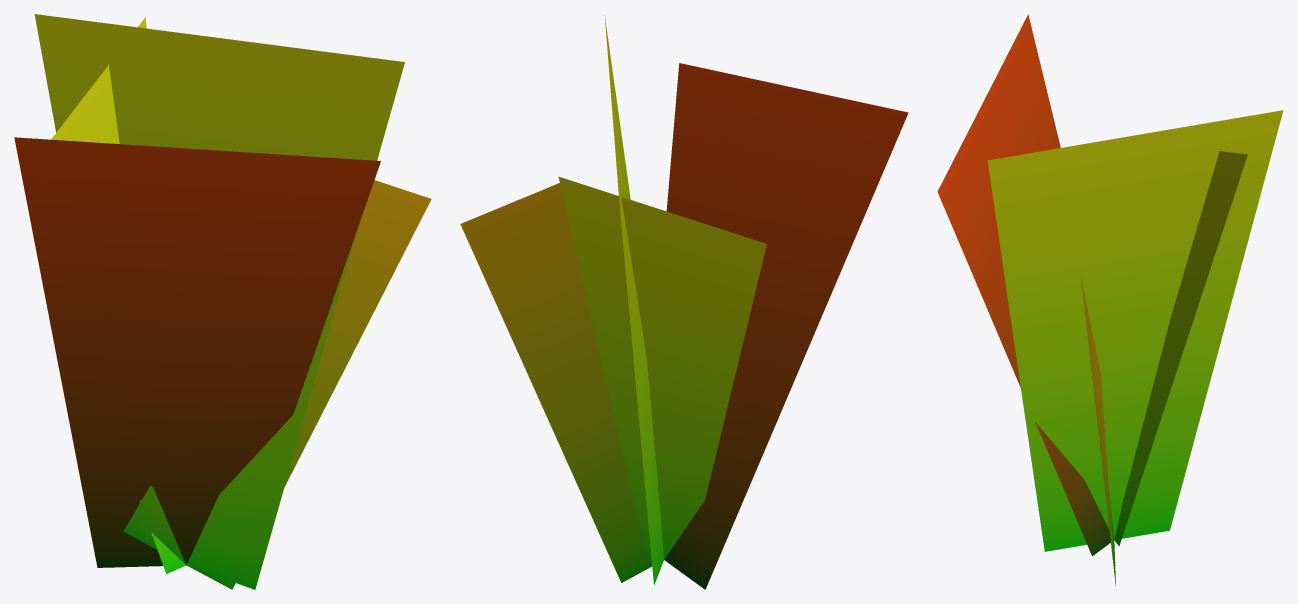
The model's file is Ocean Seaweed_LOD2_Var4_sdDgS.fbx.
3 renders of one model, left to right at view 1: azimuth 30°, elevation 25°; view 2: azimuth 150°, elevation 25°; view 3: azimuth 270°, elevation 25°, orthographic. The views are drawn at different scales.
Visible parts, largest first — view 1: _zpxb_Var4_LOD2; view 2: _zpxb_Var4_LOD2; view 3: _zpxb_Var4_LOD2.
Boxes of the visible parts, x1=… form: _zpxb_Var4_LOD2: x1=14, y1=14, x2=431, y2=589; _zpxb_Var4_LOD2: x1=460, y1=15, x2=908, y2=589; _zpxb_Var4_LOD2: x1=937, y1=14, x2=1283, y2=589.
Bounding box in the file's own units: 30.66 × 35.63 × 23.85.
